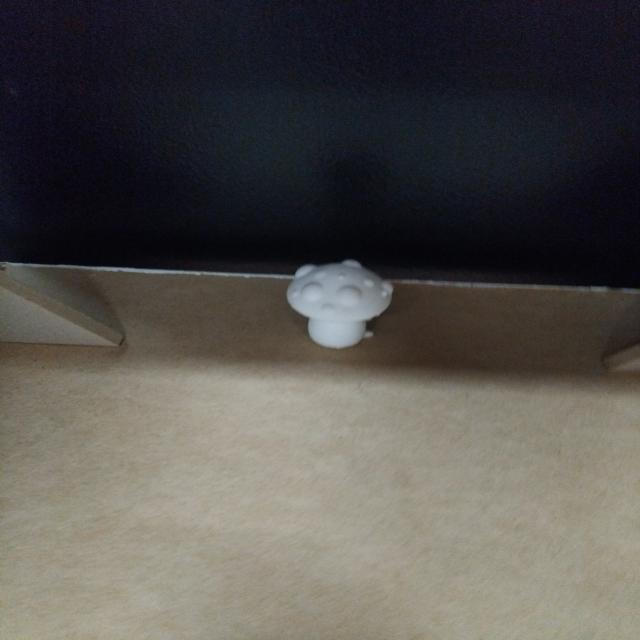Hongo: (278, 258, 407, 356)
